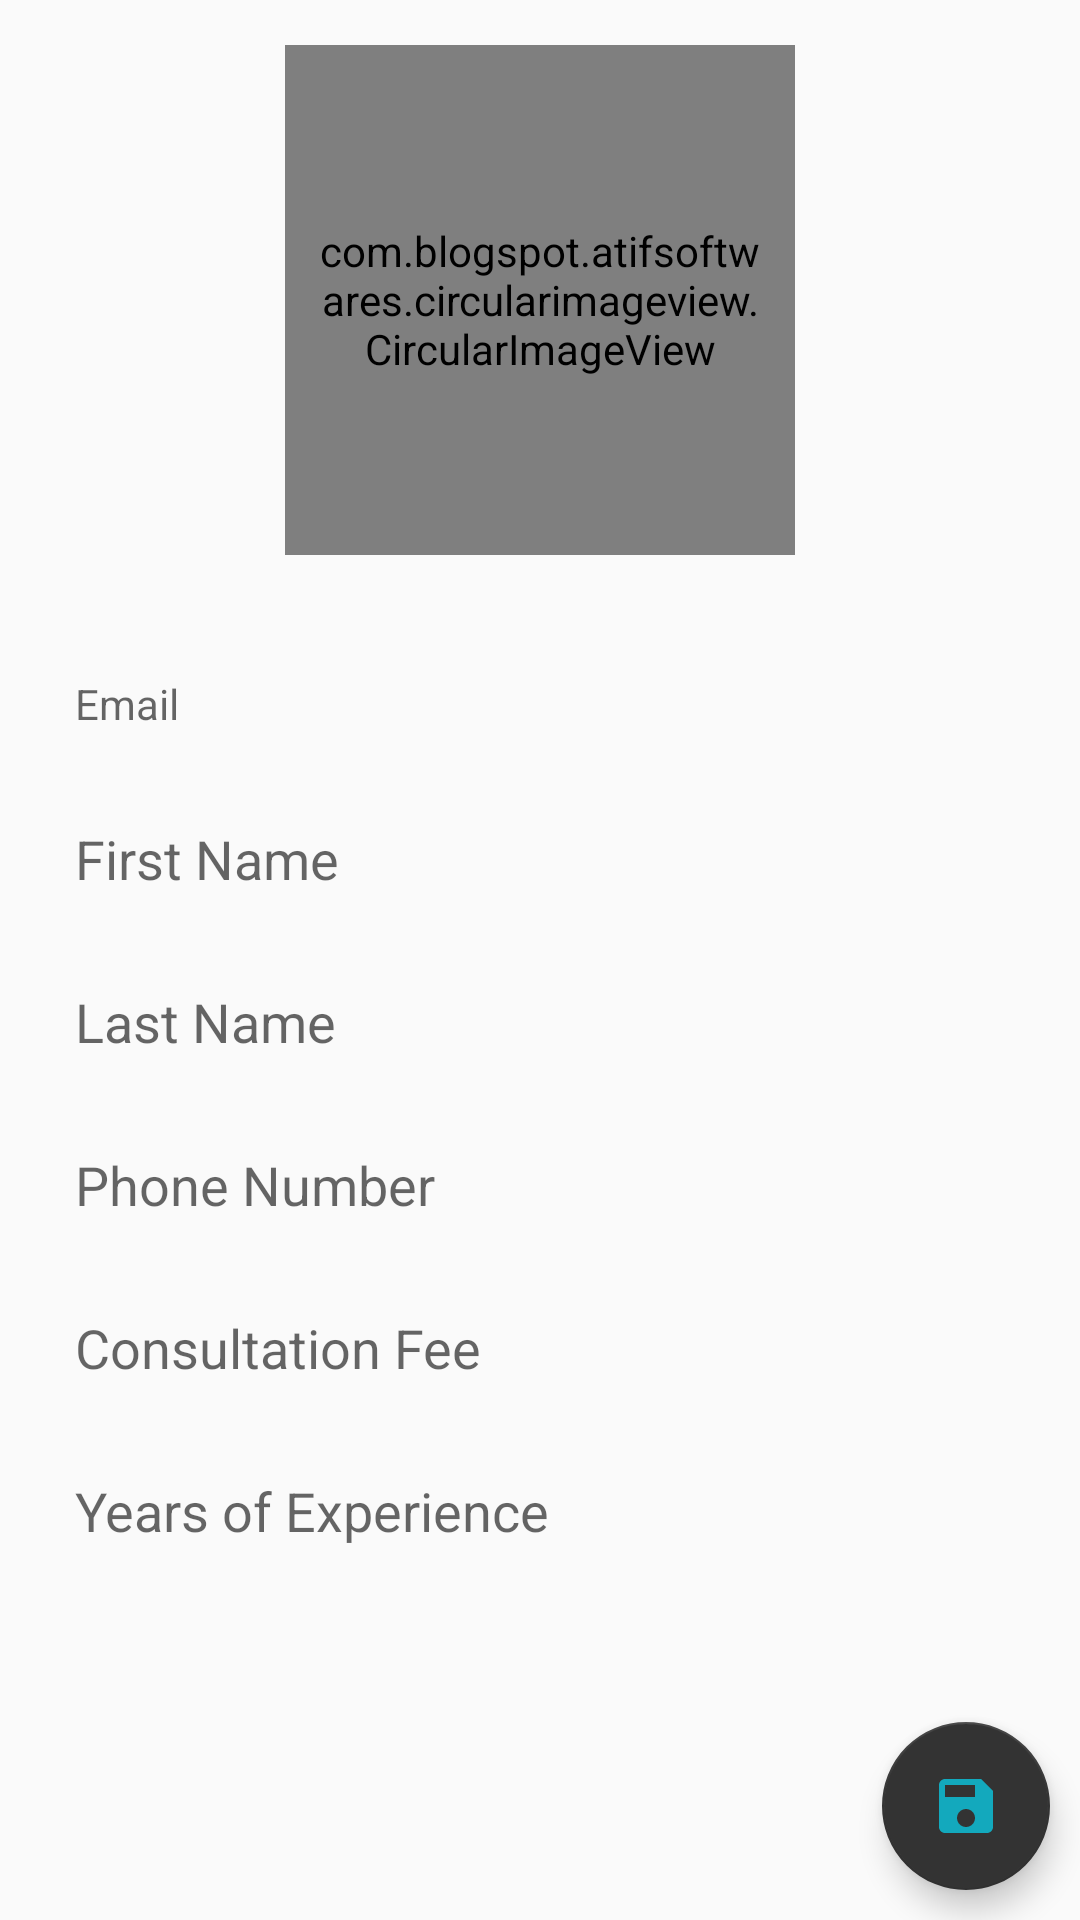

Locate icon controls on the screen. Image size 1080x1920, boxes as bbox=[x1, y1, x2, y2].
save: bbox=[882, 1722, 1050, 1890]
